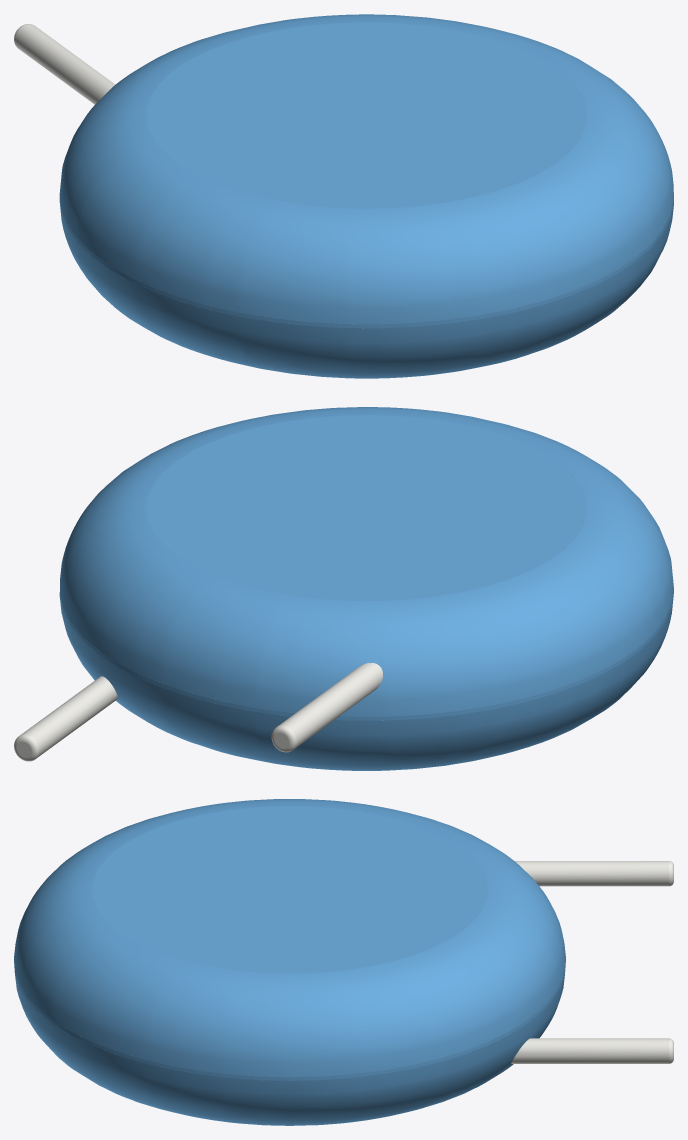
The model's file is RV_Disc_D15.5mm_W4.5mm_P7.5mm.glb.
The picture shows the model from 3 angles, top to bottom: view 1: azimuth 30°, elevation 25°; view 2: azimuth 150°, elevation 25°; view 3: azimuth 270°, elevation 25°; orthographic projection. The views are drawn at different scales.
Parts seen in each view (by area): view 1: Shape_IndexedFaceSet.001, Shape_IndexedFaceSet.003, Shape_IndexedFaceSet.002, Shape_IndexedFaceSet.004, Shape_IndexedFaceSet; view 2: Shape_IndexedFaceSet.001, Shape_IndexedFaceSet.003, Shape_IndexedFaceSet.002, Shape_IndexedFaceSet.004, Shape_IndexedFaceSet.006, Shape_IndexedFaceSet; view 3: Shape_IndexedFaceSet.001, Shape_IndexedFaceSet.003, Shape_IndexedFaceSet.002, Shape_IndexedFaceSet.006, Shape_IndexedFaceSet.004, Shape_IndexedFaceSet.
Part boxes in pixels (box(x1,y1,x2,y2)): Shape_IndexedFaceSet.001: box(59, 14, 673, 324); Shape_IndexedFaceSet.003: box(147, 22, 587, 208); Shape_IndexedFaceSet.002: box(59, 202, 673, 378); Shape_IndexedFaceSet.004: box(14, 24, 115, 104); Shape_IndexedFaceSet: box(59, 198, 673, 328); Shape_IndexedFaceSet.001: box(59, 407, 673, 716); Shape_IndexedFaceSet.003: box(146, 415, 586, 600); Shape_IndexedFaceSet.002: box(60, 548, 673, 770); Shape_IndexedFaceSet.004: box(278, 663, 382, 748); Shape_IndexedFaceSet.006: box(20, 676, 117, 758); Shape_IndexedFaceSet: box(59, 589, 673, 720); Shape_IndexedFaceSet.001: box(14, 799, 565, 1077); Shape_IndexedFaceSet.003: box(92, 806, 487, 973); Shape_IndexedFaceSet.002: box(15, 975, 564, 1125); Shape_IndexedFaceSet.006: box(511, 1038, 668, 1063); Shape_IndexedFaceSet.004: box(515, 861, 668, 886); Shape_IndexedFaceSet: box(14, 959, 565, 1080).
Bounding box in the file's own units: 6.1 × 1.77 × 7.29.
